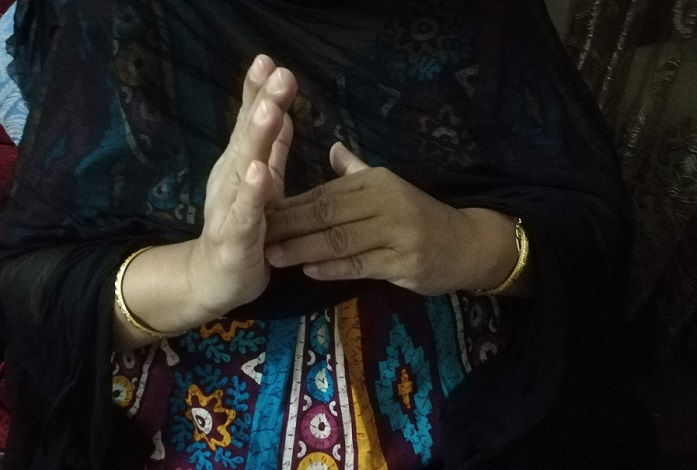ga: (218, 52, 442, 302)
